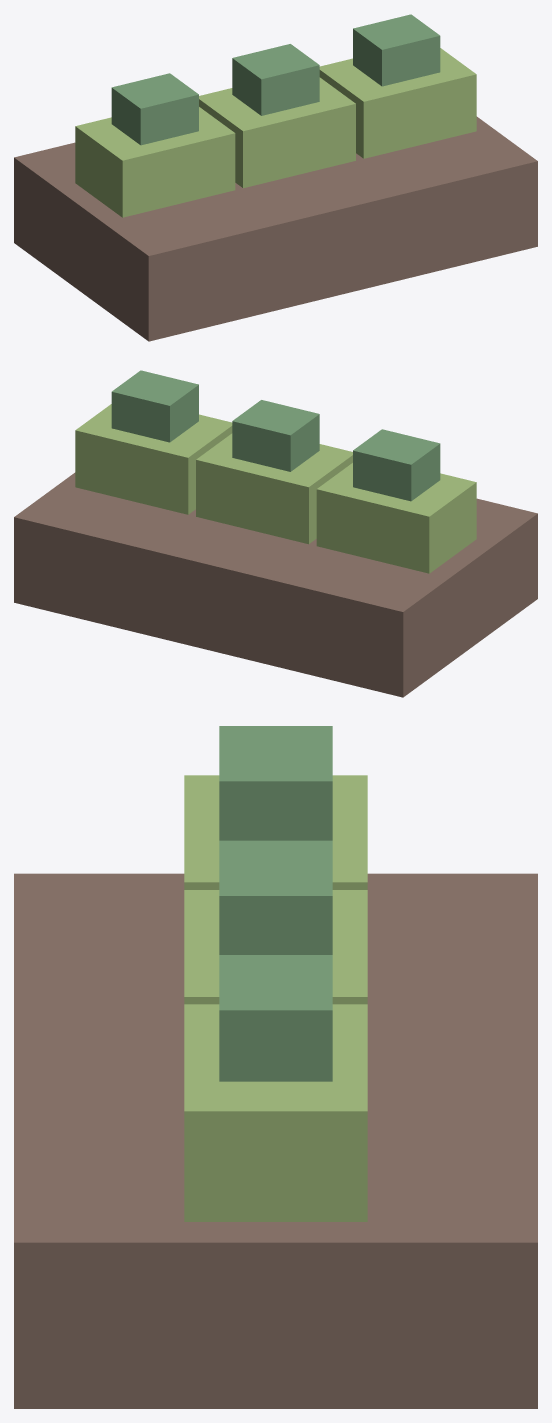
The model's file is tea_garden_bush.glb.
The picture shows the model from 3 angles, top to bottom: view 1: azimuth 30°, elevation 25°; view 2: azimuth 150°, elevation 25°; view 3: azimuth 270°, elevation 25°; orthographic projection. The views are drawn at different scales.
Visible parts, largest first — view 1: wood_dark, leaf_light, leaf; view 2: wood_dark, leaf_light, leaf; view 3: wood_dark, leaf_light, leaf.
Boxes of the visible parts, left/top/right/bottom form: wood_dark: left=14, top=116, right=537, bottom=341; leaf_light: left=75, top=48, right=476, bottom=217; leaf: left=111, top=14, right=440, bottom=145; wood_dark: left=14, top=472, right=537, bottom=697; leaf_light: left=75, top=404, right=476, bottom=573; leaf: left=111, top=370, right=440, bottom=501; wood_dark: left=14, top=873, right=537, bottom=1408; leaf_light: left=184, top=775, right=367, bottom=1221; leaf: left=219, top=726, right=332, bottom=1081.
Size of the model in its own units: 2 by 0.9 by 1.2.
